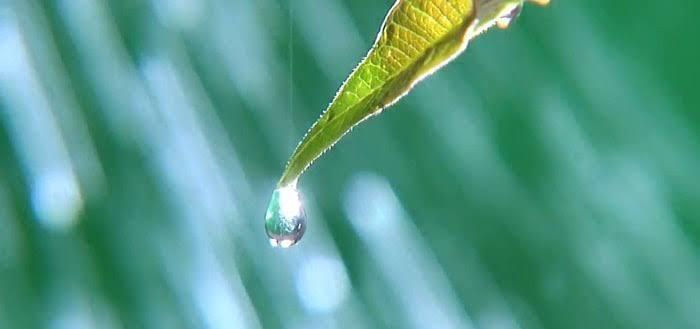water drop: (266, 182, 309, 246)
